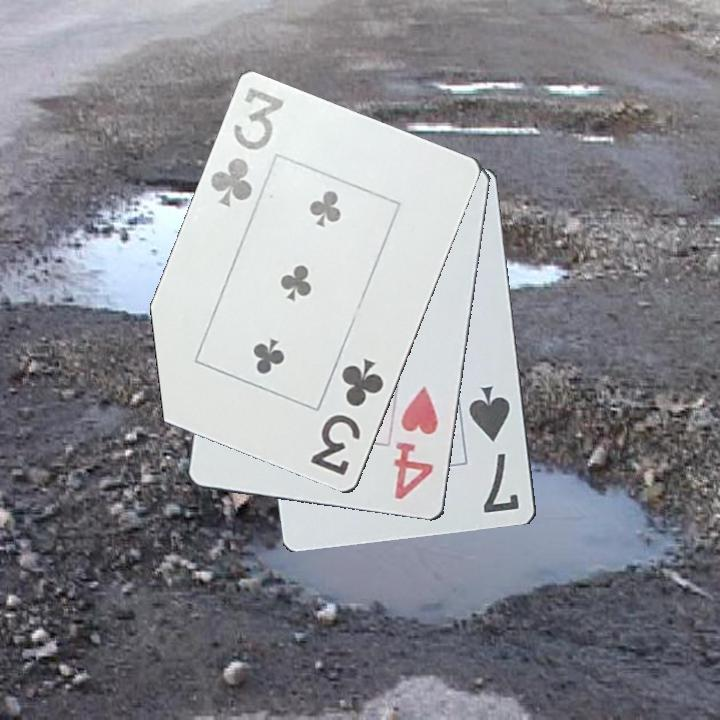3c: (207, 84, 287, 210), (307, 354, 387, 479)
4h: (390, 382, 442, 503)
7s: (465, 382, 523, 517)
